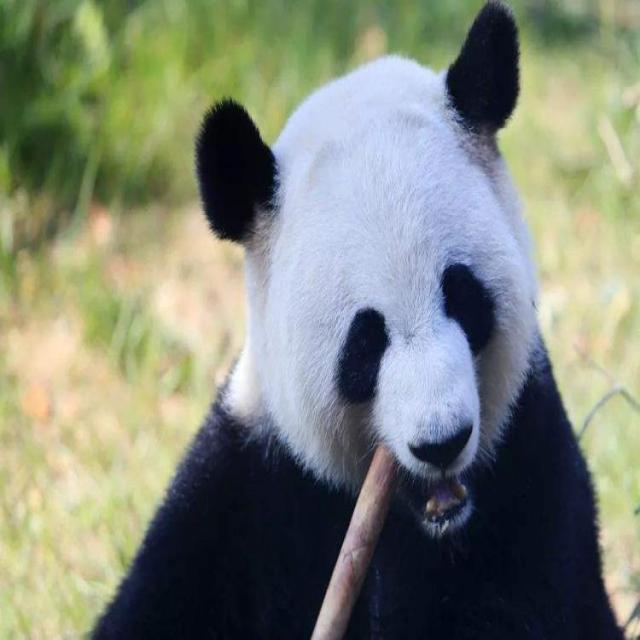panda: (81, 0, 630, 640)
